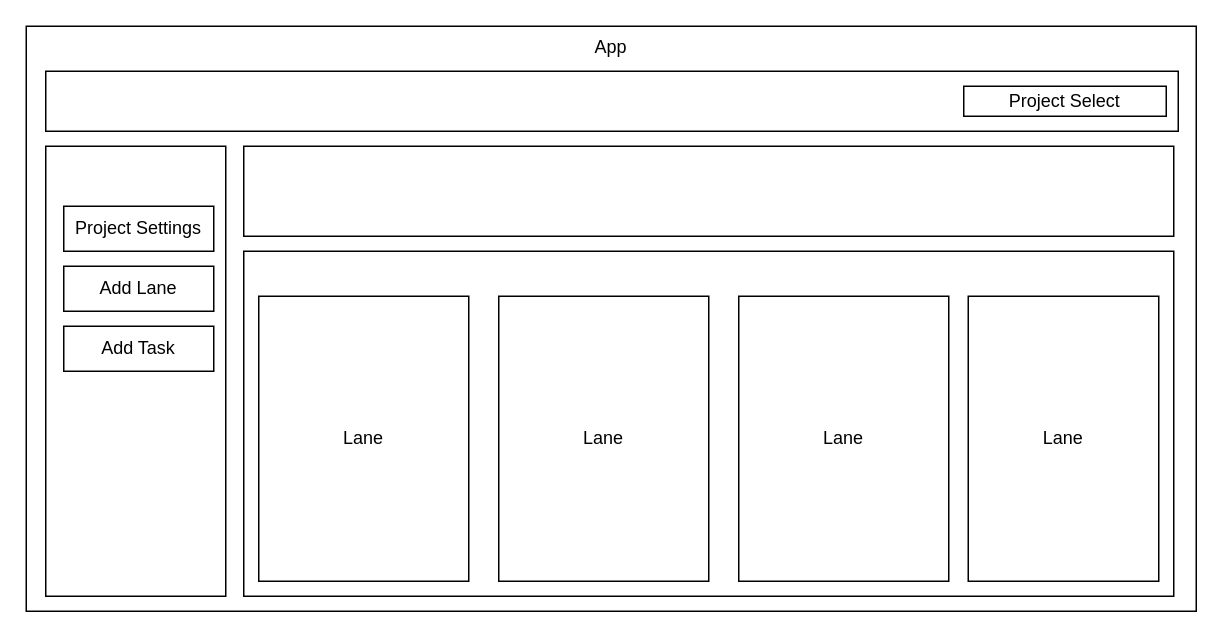
The diagram is 1223 pixels wide and 638 high, and some of its shapes have lost their labels. The shapes that lost their labels are listed below. From the top down, each one's box as (x1, y1, x2, y2) in pixels, then its label:
(44, 70, 1178, 131): Tool bar
(242, 145, 1174, 236): Project Details
(44, 145, 226, 596): Menu
(242, 250, 1174, 596): Project Task Lanes
